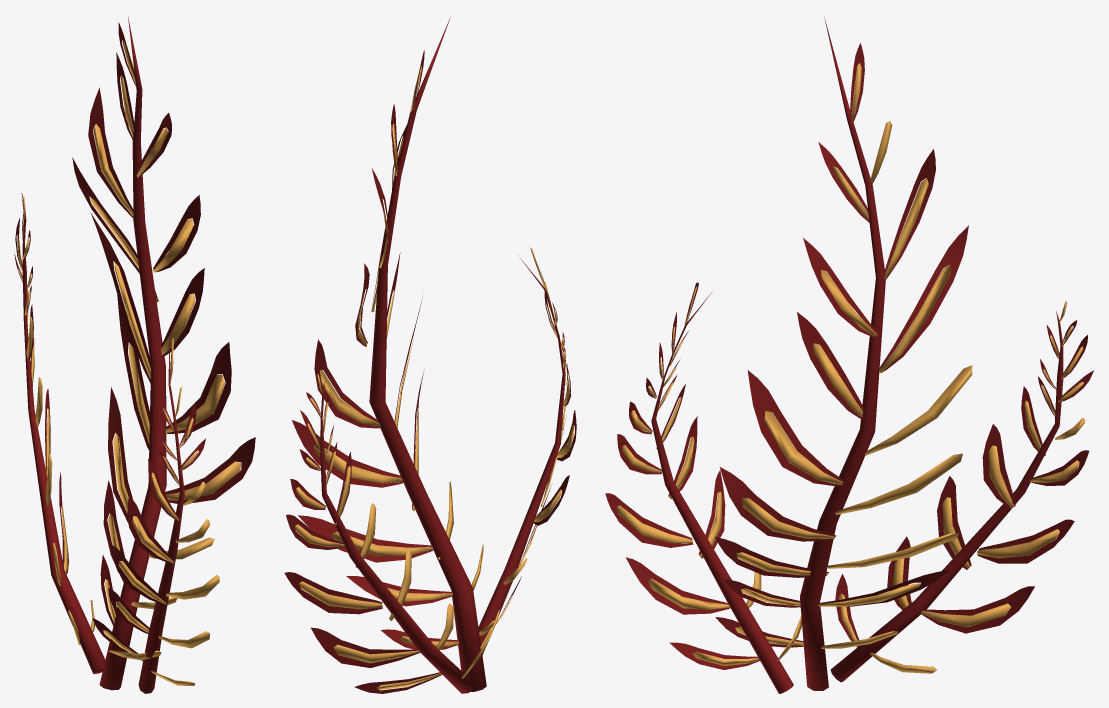
File: reefGlowing.fbx
3 renders of one model, left to right at view 1: azimuth 30°, elevation 25°; view 2: azimuth 150°, elevation 25°; view 3: azimuth 270°, elevation 25°, orthographic. The views are drawn at different scales.
Parts seen in each view (by area): view 1: Cylinder.001, Cylinder.002, Cylinder.038, Cylinder.037, Cylinder.003, Cylinder.000; view 2: Cylinder.001, Cylinder.037, Cylinder.002, Cylinder.000, Cylinder.038, Cylinder.003; view 3: Cylinder.001, Cylinder.002, Cylinder.037, Cylinder.038, Cylinder.000, Cylinder.003.
Part boxes in pixels (x1,y1,x2,y2): Cylinder.001: (72, 16, 255, 690); Cylinder.002: (90, 41, 240, 660); Cylinder.038: (92, 334, 205, 693); Cylinder.037: (14, 193, 105, 673); Cylinder.003: (103, 338, 219, 692); Cylinder.000: (17, 196, 95, 644); Cylinder.001: (292, 18, 486, 691); Cylinder.037: (284, 370, 474, 693); Cylinder.002: (313, 67, 499, 648); Cylinder.000: (295, 374, 493, 689); Cylinder.038: (478, 247, 576, 655); Cylinder.003: (479, 248, 574, 635); Cylinder.001: (715, 17, 968, 690); Cylinder.002: (735, 63, 972, 648); Cylinder.037: (830, 311, 1093, 682); Cylinder.038: (605, 282, 793, 693); Cylinder.000: (839, 301, 1084, 673); Cylinder.003: (616, 287, 802, 666).
Size of the model in its own units: 87.55 by 385 by 250.
